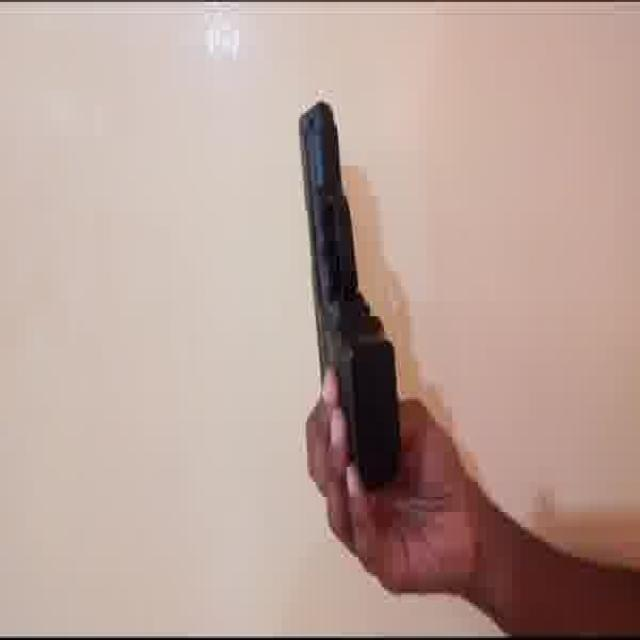weapon: (298, 96, 402, 488)
